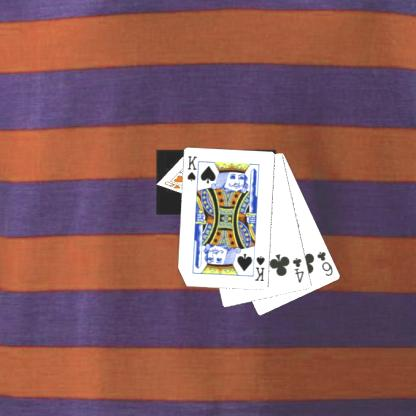4C: (289, 255, 306, 284)
6C: (314, 248, 334, 278)
KS: (185, 153, 201, 186), (252, 253, 266, 283)
